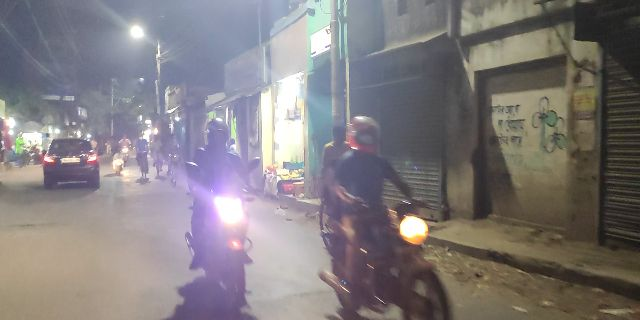Car: (45, 137, 100, 197)
Motorbike: (310, 119, 450, 310), (186, 117, 261, 301)
